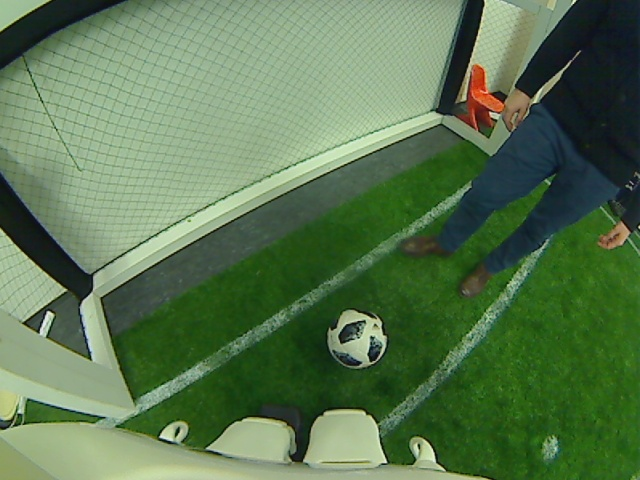ball: (326, 307, 386, 372)
